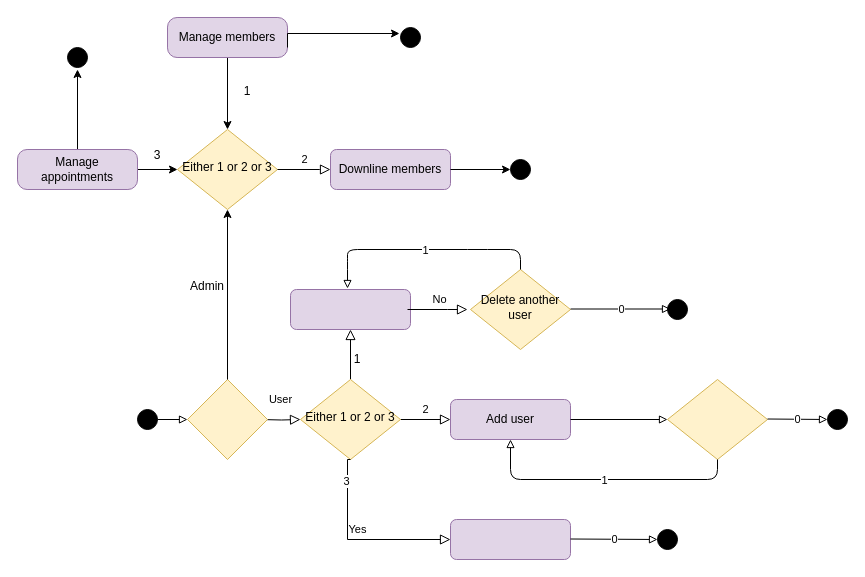
Some shapes in this 865 by 577 pixel diagram are drawn without their labels. The centre of each missing label's shape, as x and y in pixels:
Add another user: (x=717, y=419)
Admin/ User: (x=227, y=419)
Delete user: (x=350, y=309)
Edit user: (x=510, y=539)
